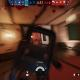Character: (37, 37, 42, 47)
Head: (39, 37, 41, 39)
